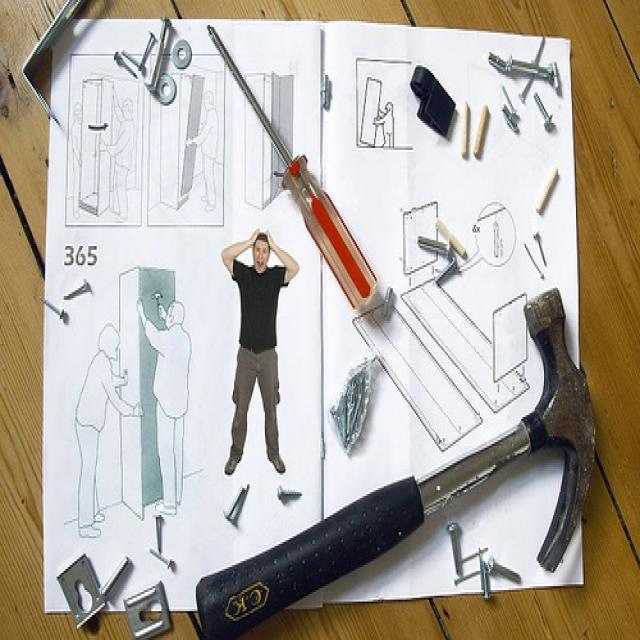hammer: (183, 285, 640, 595)
screw driver: (197, 15, 389, 318)
